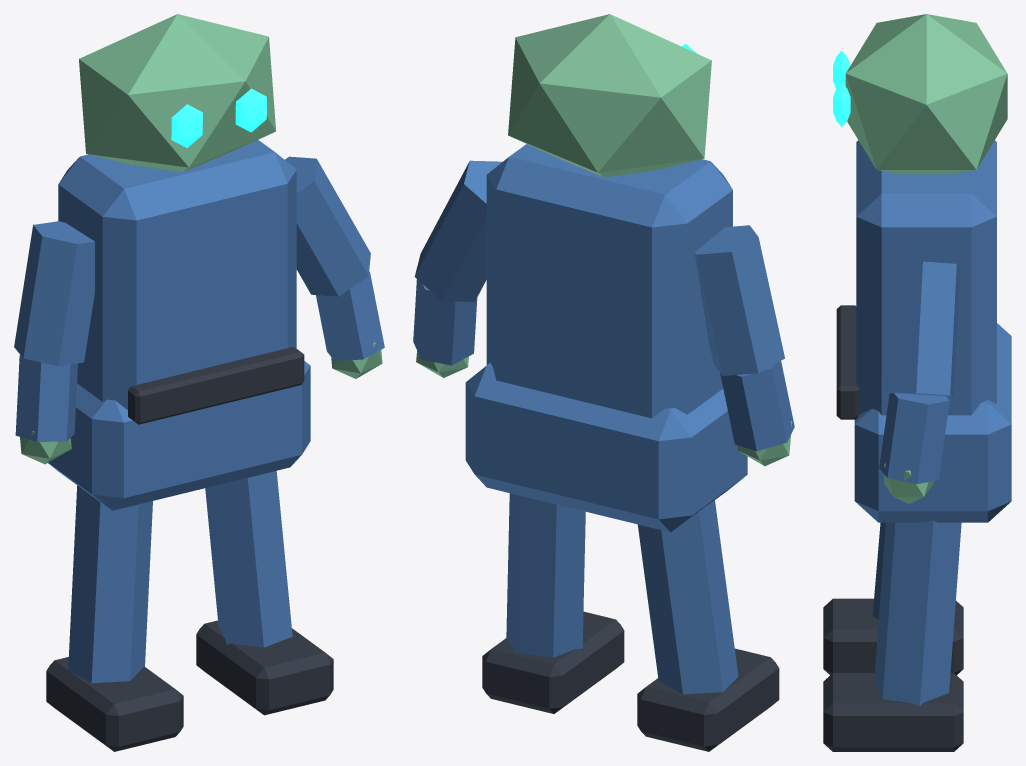
The model's file is npcs_003_seed100.glb.
The picture shows the model from 3 angles, left to right: view 1: azimuth 30°, elevation 25°; view 2: azimuth 150°, elevation 25°; view 3: azimuth 270°, elevation 25°; orthographic projection. The views are drawn at different scales.
Parts seen in each view (by area): view 1: npcs_003_seed100; view 2: npcs_003_seed100; view 3: npcs_003_seed100.
Part boxes in pixels (left/top/right/bottom): npcs_003_seed100: left=14, top=14, right=384, bottom=751; npcs_003_seed100: left=413, top=14, right=794, bottom=751; npcs_003_seed100: left=823, top=14, right=1011, bottom=751.
Bounding box in the file's own units: 0.9591 × 1.72 × 0.4268.
